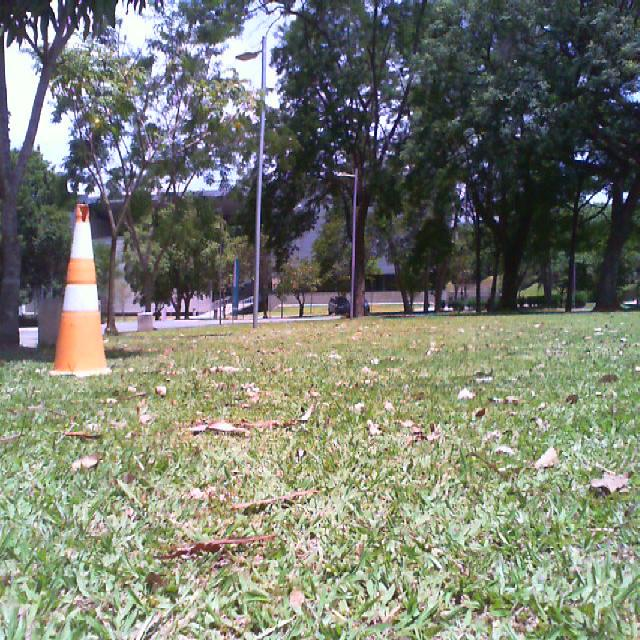cone: (48, 203, 113, 377)
